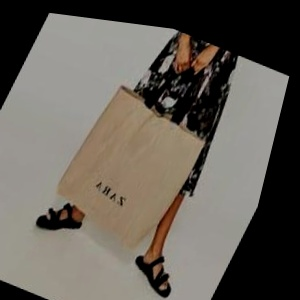zara: (70, 97, 207, 260)
